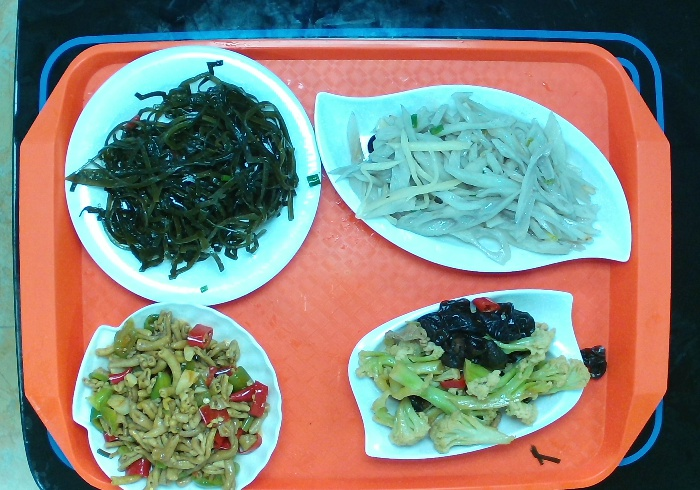RJxy-Bei_Ke_Wan: (66, 291, 285, 490)
RJxy-Jian_Jiao_Fang_Die: (339, 280, 590, 463)
RJxy-Jian_Jiao_Pan: (312, 77, 641, 274)
RJxy-Yuan_Pan: (59, 45, 326, 309)
